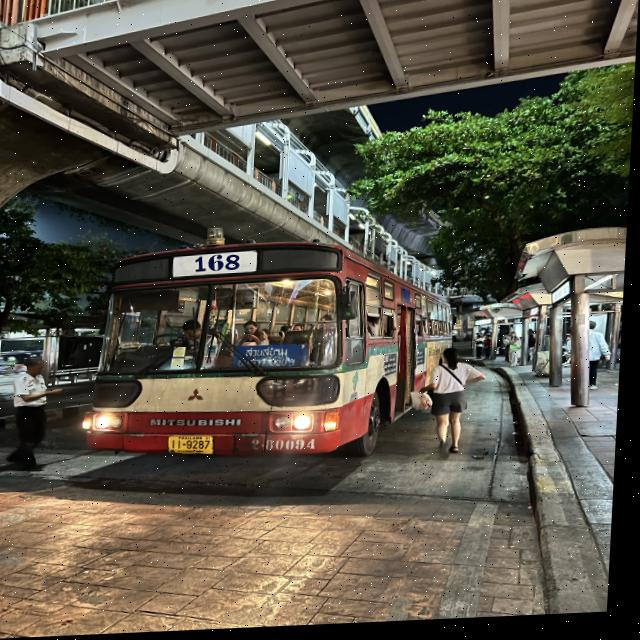BMTA-bus: (80, 245, 443, 461)
Bus Line Number: (189, 256, 249, 275)
Bus Side Number: (246, 436, 329, 457)
Destination Sign: (239, 344, 309, 372)
